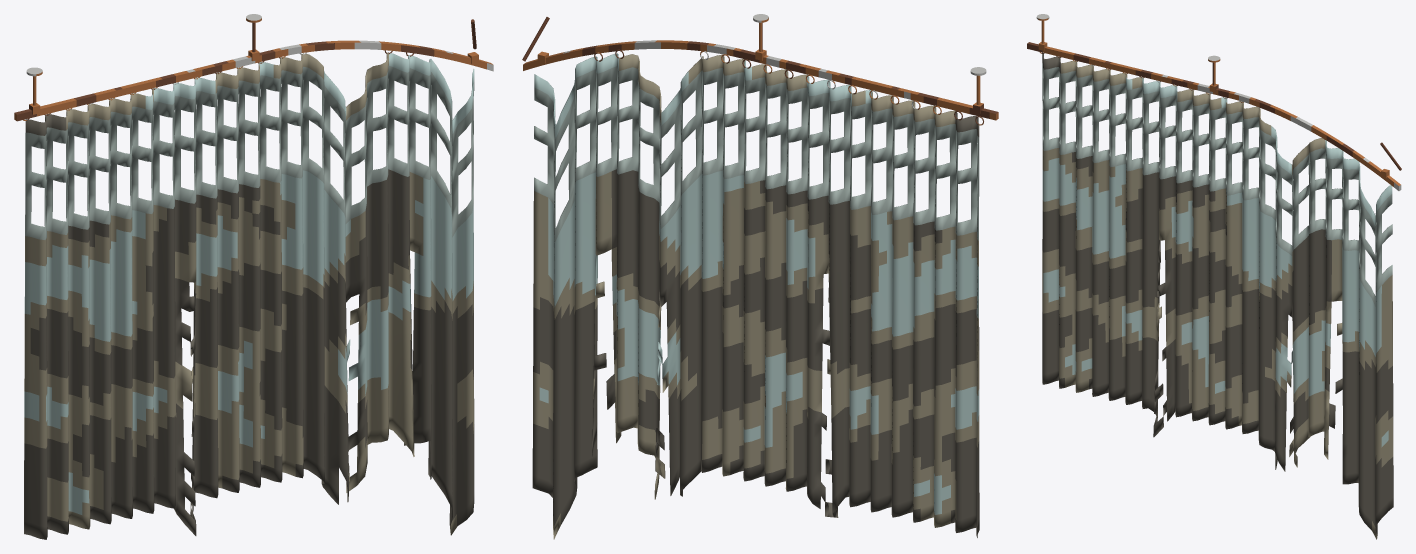
Rendered from Hospital_cutton_v4.fbx.
The picture shows the model from 3 angles, left to right: view 1: azimuth 30°, elevation 25°; view 2: azimuth 150°, elevation 25°; view 3: azimuth 330°, elevation 25°; orthographic projection. The views are drawn at different scales.
Visible parts, largest first — view 1: 04_Straight_Damaged_Curtain; view 2: 04_Straight_Damaged_Curtain; view 3: 04_Straight_Damaged_Curtain.
Part boxes in pixels (<box>): 04_Straight_Damaged_Curtain: <box>14,14,493,539</box>; 04_Straight_Damaged_Curtain: <box>522,14,998,539</box>; 04_Straight_Damaged_Curtain: <box>1027,14,1401,539</box>.
Bounding box in the file's own units: 240 × 275 × 17.46.
